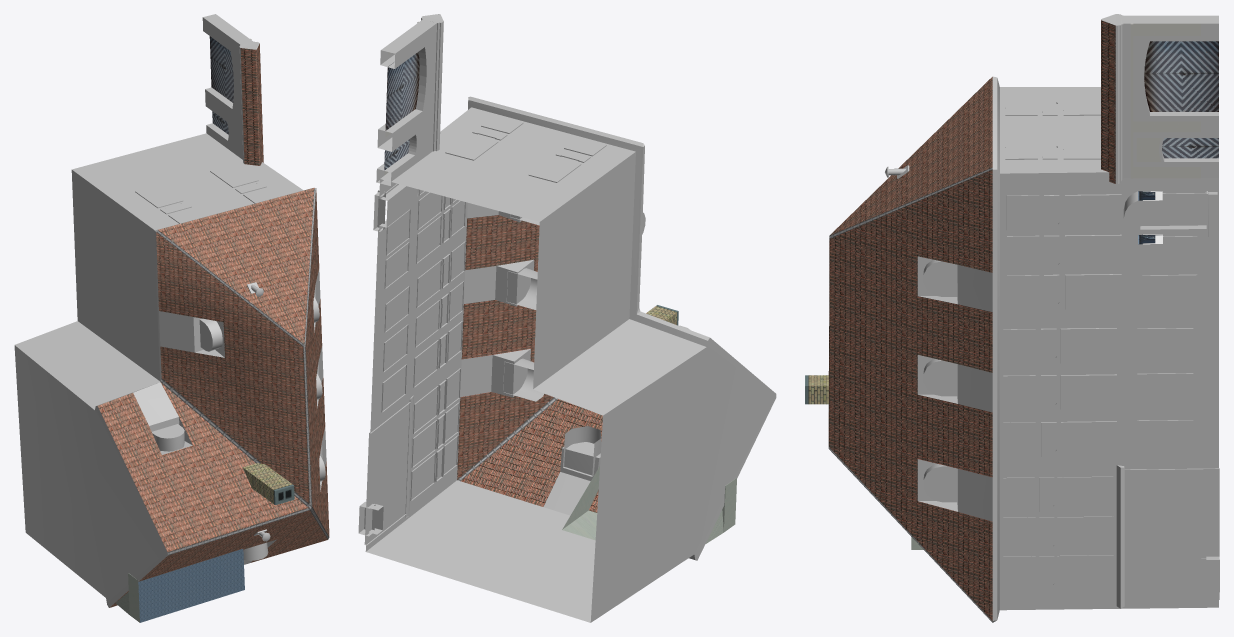
The model's file is Uus_5.obj.
3 views of the same model, side by side, from view 1: azimuth 30°, elevation 25°; view 2: azimuth 150°, elevation 25°; view 3: azimuth 270°, elevation 25° (orthographic). The views are drawn at different scales.
Parts seen in each view (by area): view 1: Uus_tn_5, xxx; view 2: Uus_tn_5, xxx; view 3: Uus_tn_5, xxx.
Part boxes in pixels (bbox=[...]): Uus_tn_5: bbox=[15, 17, 329, 622]; xxx: bbox=[14, 14, 253, 622]; Uus_tn_5: bbox=[358, 14, 734, 622]; xxx: bbox=[381, 19, 776, 622]; Uus_tn_5: bbox=[805, 14, 1219, 622]; xxx: bbox=[1123, 15, 1218, 23].
Bounding box in the file's own units: 13.89 × 27.5 × 17.1.
